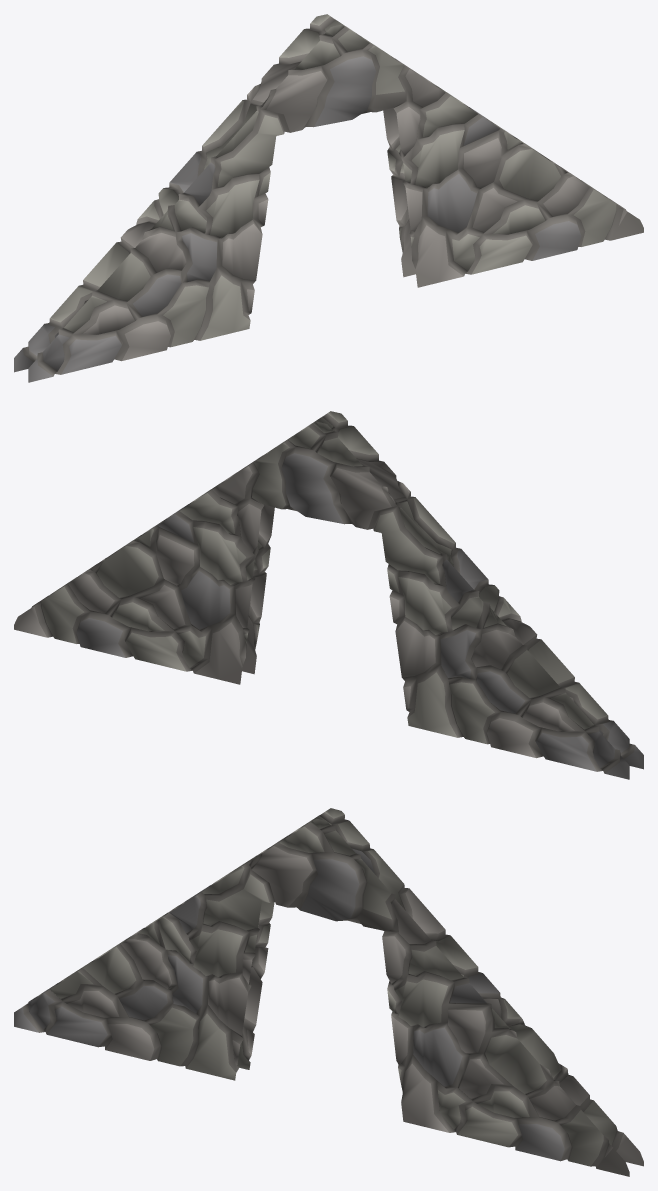
File: rpgpp_ag_roof_end_01_9x4_wall_door_03b.fbx
The picture shows the model from 3 angles, top to bottom: view 1: azimuth 30°, elevation 25°; view 2: azimuth 150°, elevation 25°; view 3: azimuth 330°, elevation 25°; orthographic projection.
Visible parts, largest first — view 1: rpgpp_ag_roof_end_01_9x4_wall_door_03b; view 2: rpgpp_ag_roof_end_01_9x4_wall_door_03b; view 3: rpgpp_ag_roof_end_01_9x4_wall_door_03b.
Part boxes in pixels (bbox=[...]): rpgpp_ag_roof_end_01_9x4_wall_door_03b: bbox=[14, 14, 643, 382]; rpgpp_ag_roof_end_01_9x4_wall_door_03b: bbox=[14, 411, 643, 779]; rpgpp_ag_roof_end_01_9x4_wall_door_03b: bbox=[14, 808, 643, 1176].
Bounding box in the file's own units: 9 × 3.94 × 0.4229.
